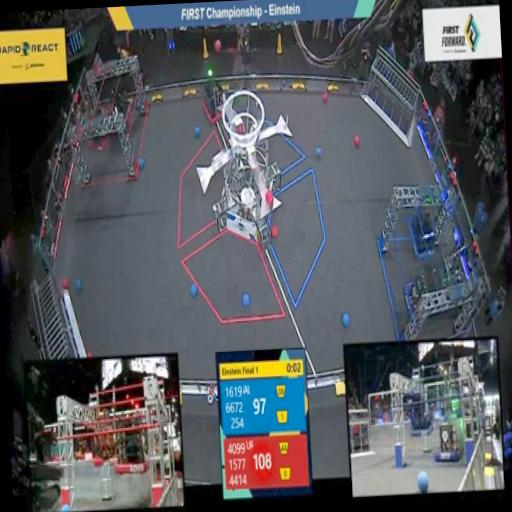robot: (430, 236, 471, 312), (394, 263, 433, 327), (404, 194, 440, 263), (101, 70, 135, 133), (199, 66, 229, 124), (84, 100, 114, 154)
